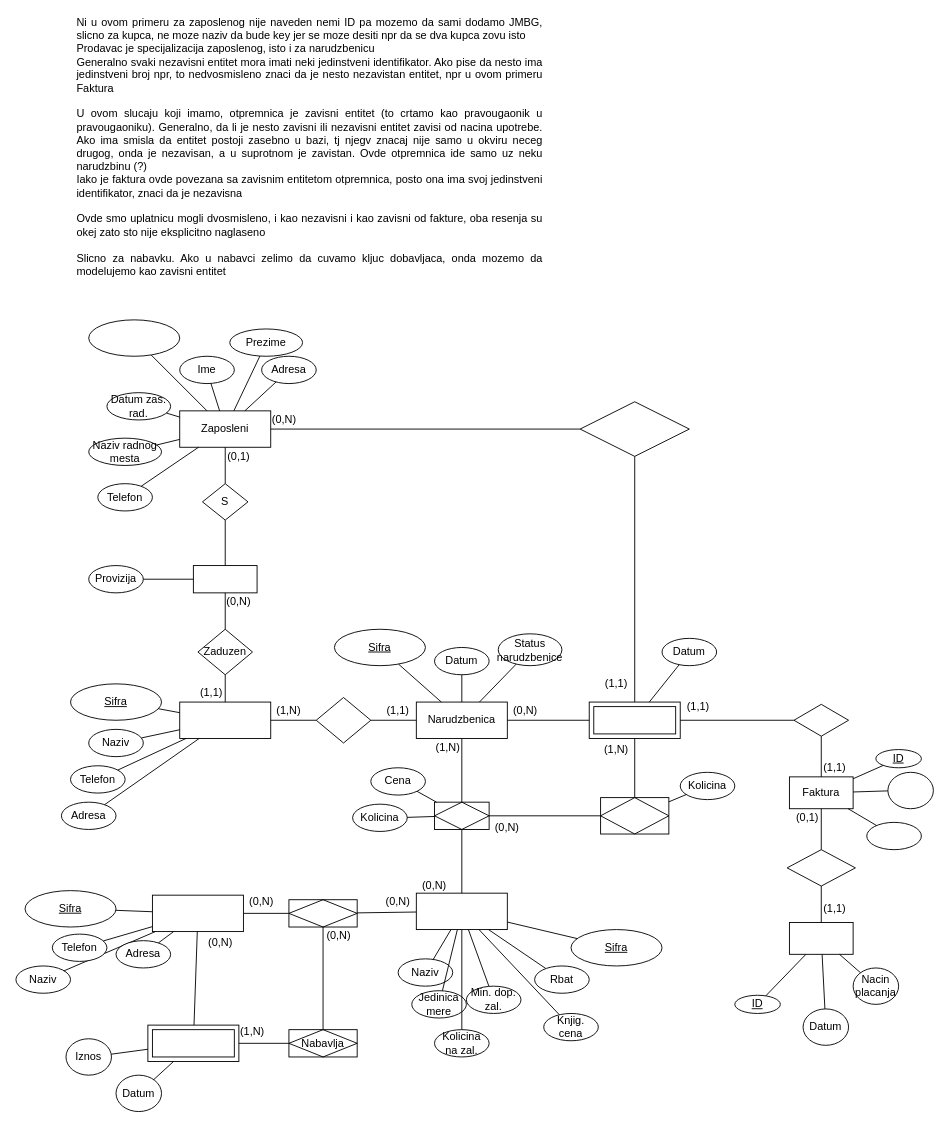
This 950x1127 diagram has some shape labels left out. The shapes that lost their labels are listed below. From the top down, each one's box as (x1, y1, x2, y2) in pixels, then its label:
(88, 319, 180, 356): JMBG
(579, 401, 689, 456): Odobrio
(192, 565, 257, 593): Prodavac
(179, 701, 271, 738): Kupac
(315, 697, 371, 743): Narucuje
(588, 701, 680, 738): Otpremnica
(793, 703, 849, 736): Izdaje se
(887, 771, 933, 809): Rok uplate
(434, 801, 489, 829): Sadrzi
(600, 797, 669, 834): Isporuceno
(866, 821, 921, 850): Ukupan iznos
(786, 849, 855, 886): Na osnovu
(152, 894, 243, 932): Dobavljac
(288, 899, 357, 927): Dobavlja
(415, 892, 507, 930): Artikal
(789, 922, 853, 954): Uplatnica
(147, 1024, 239, 1062): Nabavka
